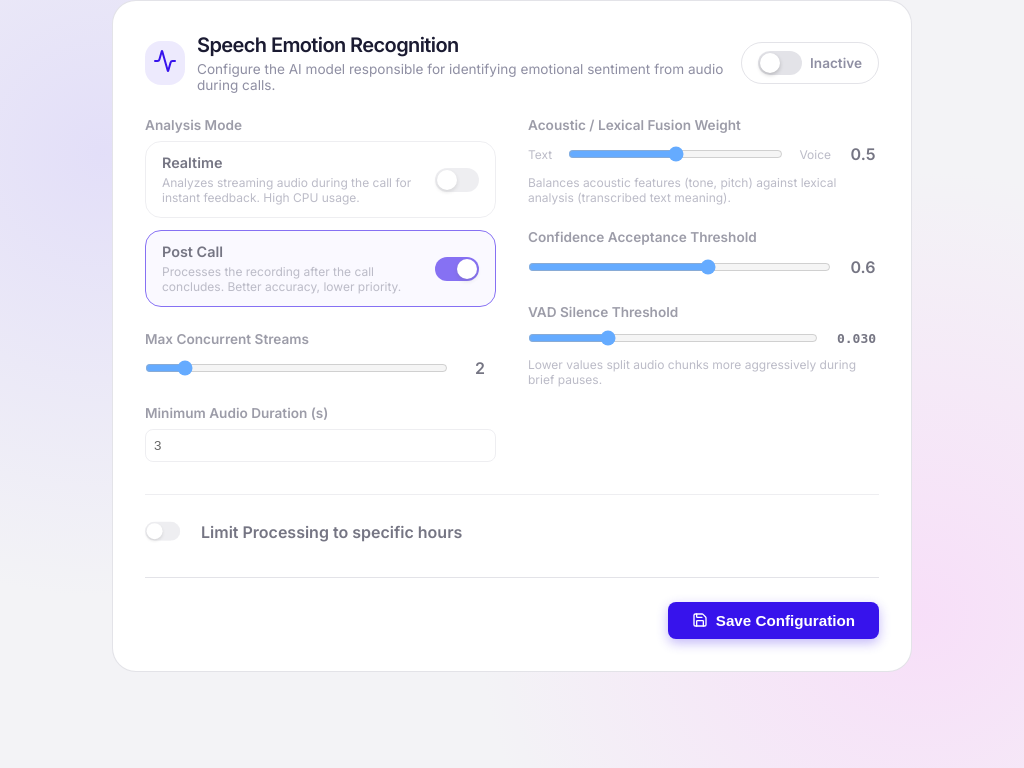
Test: SerConfig › shows success message after save
This screenshot has width=1024, height=768.
Click the button "Save Configuration" at (773, 620), box [668,602,879,639]
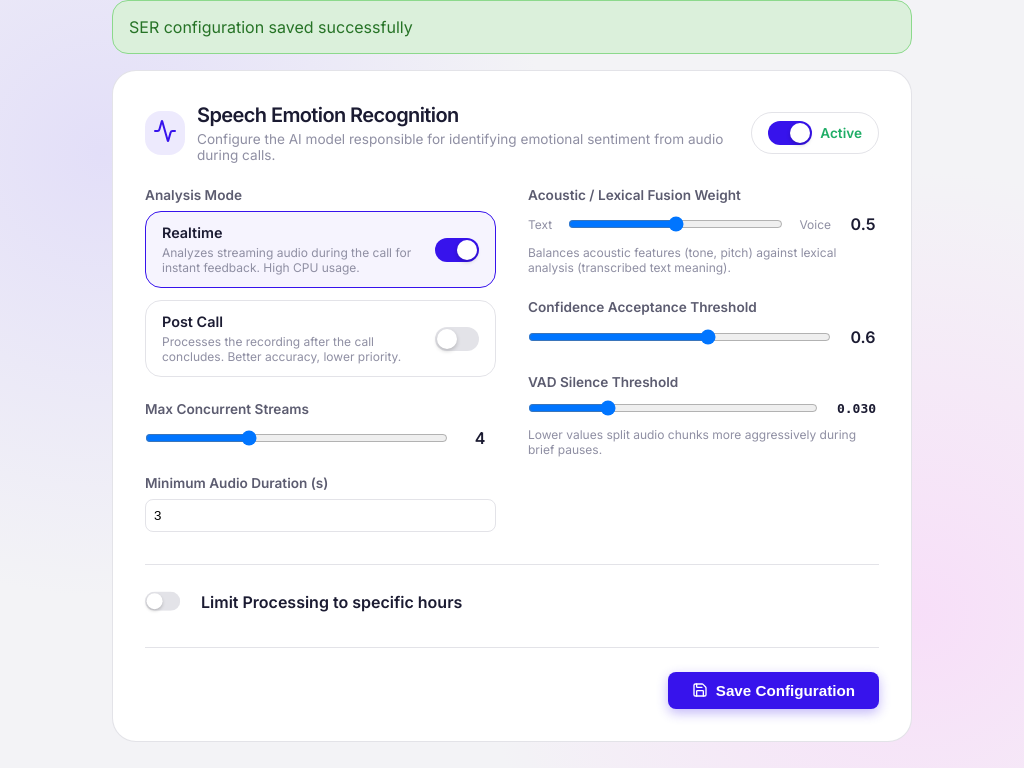
Expected: the text "SER configuration saved successfully" is shown, [112,0,912,54]
